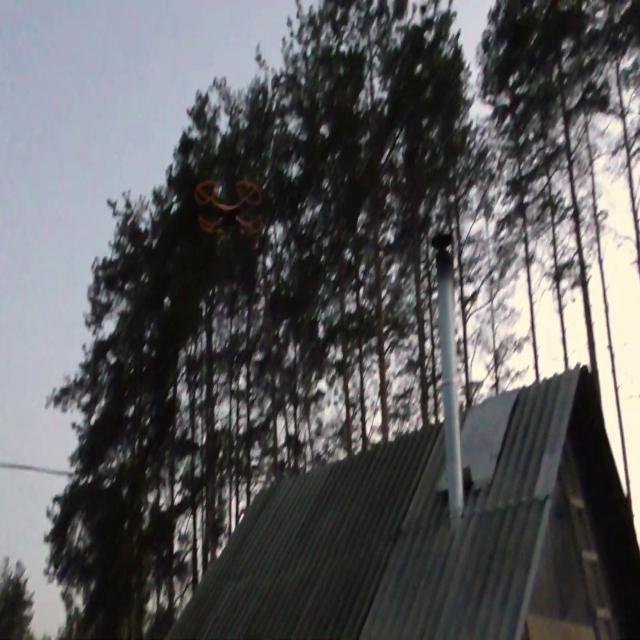Drons: (192, 178, 268, 240)
